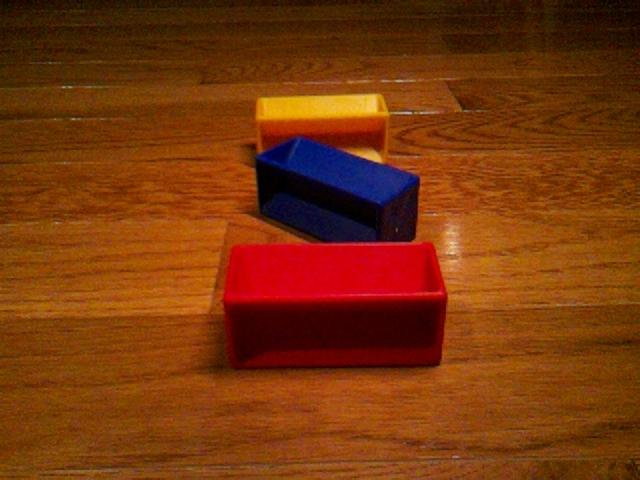blue: (254, 134, 421, 243)
red: (222, 241, 449, 370)
yellow: (254, 92, 391, 165)
